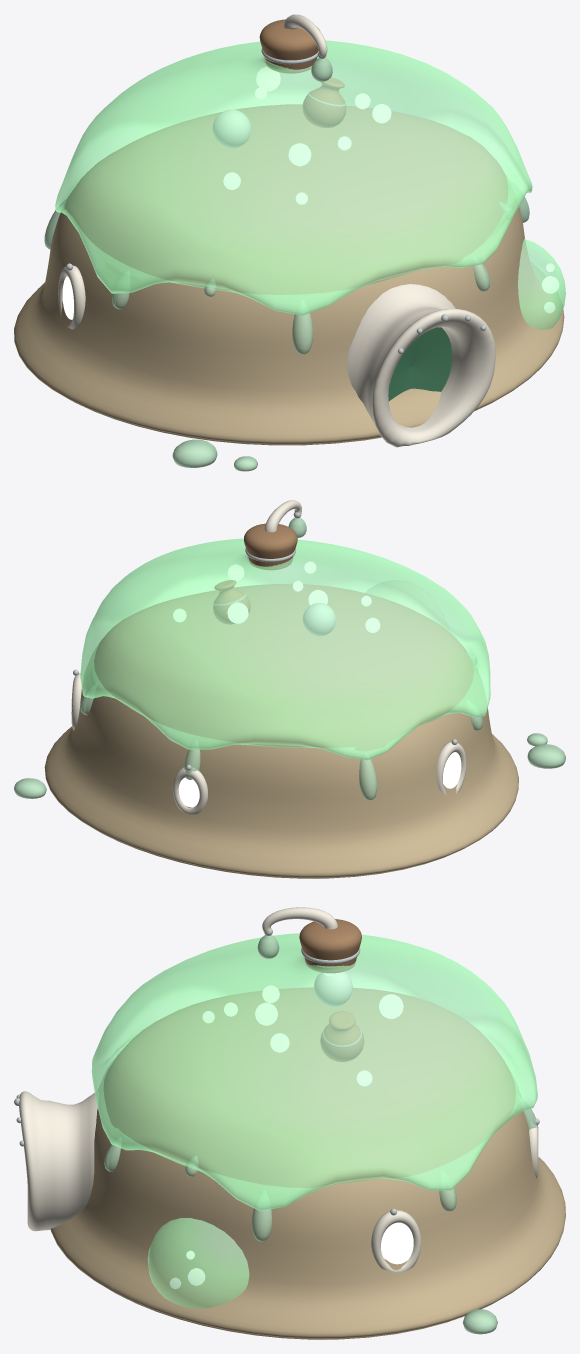
File: house_02_0203.fbx
3 renders of one model, top to bottom at view 1: azimuth 30°, elevation 25°; view 2: azimuth 150°, elevation 25°; view 3: azimuth 270°, elevation 25°, orthographic. The views are drawn at different scales.
Visible parts, largest first — view 1: House02_Body_Base, House02_Dome_JellyClear, House02_Entrance_Tunnel, House02_Blister_JellyClear, House02_Entrance_Shadow, House02_Top_Plug, House02_Float_Pot, House02_Float_Lamp, House02_Puddle_1, House02_WindowLip_L, House02_Drip_6, House02_Top_Sprout; view 2: House02_Body_Base, House02_Dome_JellyClear, House02_Top_Plug, House02_Entrance_Tunnel, House02_Float_Lamp, House02_WindowLip_Back, House02_Float_Pot, House02_Puddle_1, House02_WindowLip_L, House02_Drip_4, House02_Puddle_3, House02_Top_Sprout (+3 smaller); view 3: House02_Body_Base, House02_Dome_JellyClear, House02_Entrance_Tunnel, House02_Blister_JellyClear, House02_Top_Plug, House02_Float_Pot, House02_WindowLip_R, House02_Window_R, House02_Float_Lamp, House02_Top_Sprout, House02_Puddle_3, House02_Drip_1.
Part boxes in pixels (x1=…): House02_Body_Base: x1=14, y1=104, x2=564, y2=445; House02_Dome_JellyClear: x1=55, y1=40, x2=532, y2=315; House02_Entrance_Tunnel: x1=347, y1=284, x2=495, y2=447; House02_Blister_JellyClear: x1=518, y1=239, x2=565, y2=329; House02_Entrance_Shadow: x1=388, y1=327, x2=452, y2=401; House02_Top_Plug: x1=259, y1=19, x2=319, y2=73; House02_Float_Pot: x1=303, y1=77, x2=345, y2=127; House02_Float_Lamp: x1=212, y1=110, x2=250, y2=148; House02_Puddle_1: x1=172, y1=439, x2=217, y2=467; House02_WindowLip_L: x1=58, y1=265, x2=85, y2=329; House02_Drip_6: x1=292, y1=313, x2=313, y2=354; House02_Top_Sprout: x1=283, y1=14, x2=327, y2=56; House02_Body_Base: x1=44, y1=584, x2=518, y2=878; House02_Dome_JellyClear: x1=80, y1=538, x2=490, y2=760; House02_Top_Plug: x1=244, y1=523, x2=297, y2=569; House02_Entrance_Tunnel: x1=366, y1=580, x2=448, y2=629; House02_Float_Lamp: x1=303, y1=603, x2=335, y2=636; House02_WindowLip_Back: x1=172, y1=767, x2=207, y2=814; House02_Float_Pot: x1=213, y1=580, x2=250, y2=624; House02_Puddle_1: x1=527, y1=744, x2=565, y2=768; House02_WindowLip_L: x1=436, y1=742, x2=466, y2=795; House02_Drip_4: x1=359, y1=751, x2=377, y2=800; House02_Puddle_3: x1=14, y1=778, x2=46, y2=798; House02_Top_Sprout: x1=264, y1=500, x2=301, y2=532; House02_Body_Base: x1=50, y1=987, x2=565, y2=1339; House02_Dome_JellyClear: x1=91, y1=933, x2=537, y2=1211; House02_Entrance_Tunnel: x1=19, y1=1091, x2=98, y2=1231; House02_Blister_JellyClear: x1=147, y1=1218, x2=249, y2=1308; House02_Top_Plug: x1=299, y1=919, x2=361, y2=972; House02_Float_Pot: x1=320, y1=1011, x2=364, y2=1061; House02_WindowLip_R: x1=371, y1=1210, x2=421, y2=1272; House02_Window_R: x1=381, y1=1222, x2=413, y2=1264; House02_Float_Lamp: x1=314, y1=972, x2=352, y2=1006; House02_Top_Sprout: x1=262, y1=907, x2=337, y2=932; House02_Puddle_3: x1=462, y1=1309, x2=497, y2=1334; House02_Drip_1: x1=252, y1=1208, x2=271, y2=1241.
Size of the model in its own units: 6.3 by 3.96 by 6.2.
